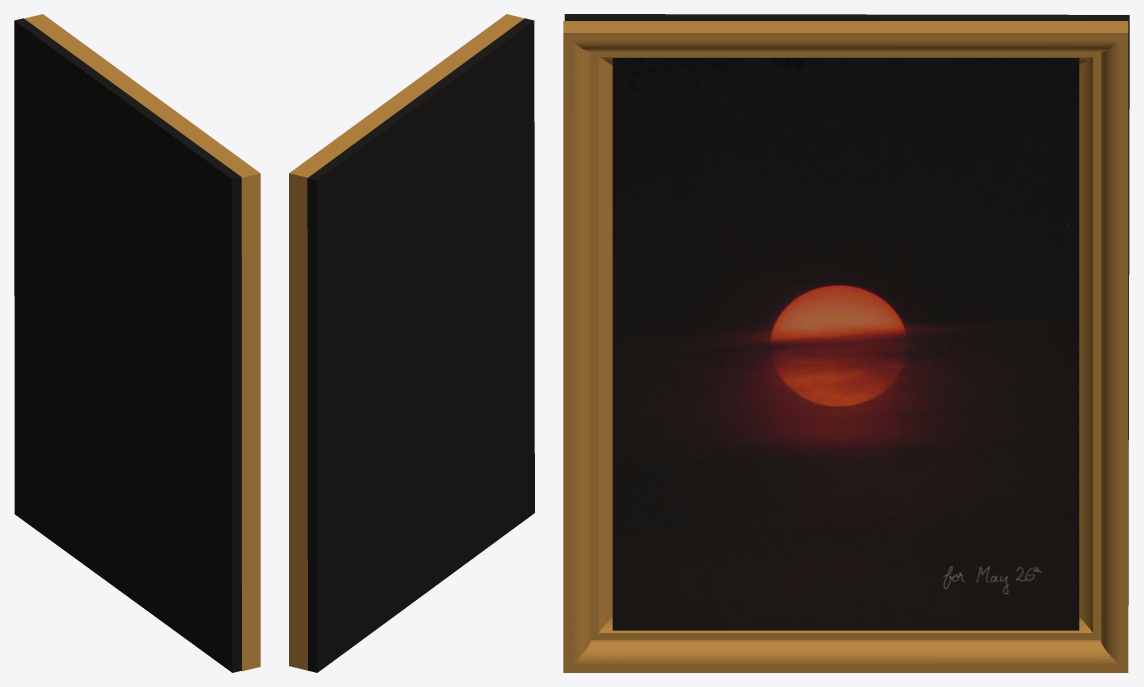
File: sunframe4.glb
The picture shows the model from 3 angles, left to right: view 1: azimuth 30°, elevation 25°; view 2: azimuth 150°, elevation 25°; view 3: azimuth 270°, elevation 25°; orthographic projection. The views are drawn at different scales.
Visible parts, largest first — view 1: frame.001_3, back panel.001_2; view 2: frame.001_3, back panel.001_2; view 3: frame.001_3, back panel.001_2.
Part boxes in pixels (x1,y1,x2,y2): frame.001_3: (14, 18, 241, 672); back panel.001_2: (24, 14, 260, 671); frame.001_3: (307, 18, 534, 672); back panel.001_2: (289, 14, 524, 670); frame.001_3: (564, 14, 1129, 630); back panel.001_2: (563, 21, 1128, 672).
Size of the model in its own units: 0.75 by 12.52 by 10.02.
3 materials, 1 textured.
